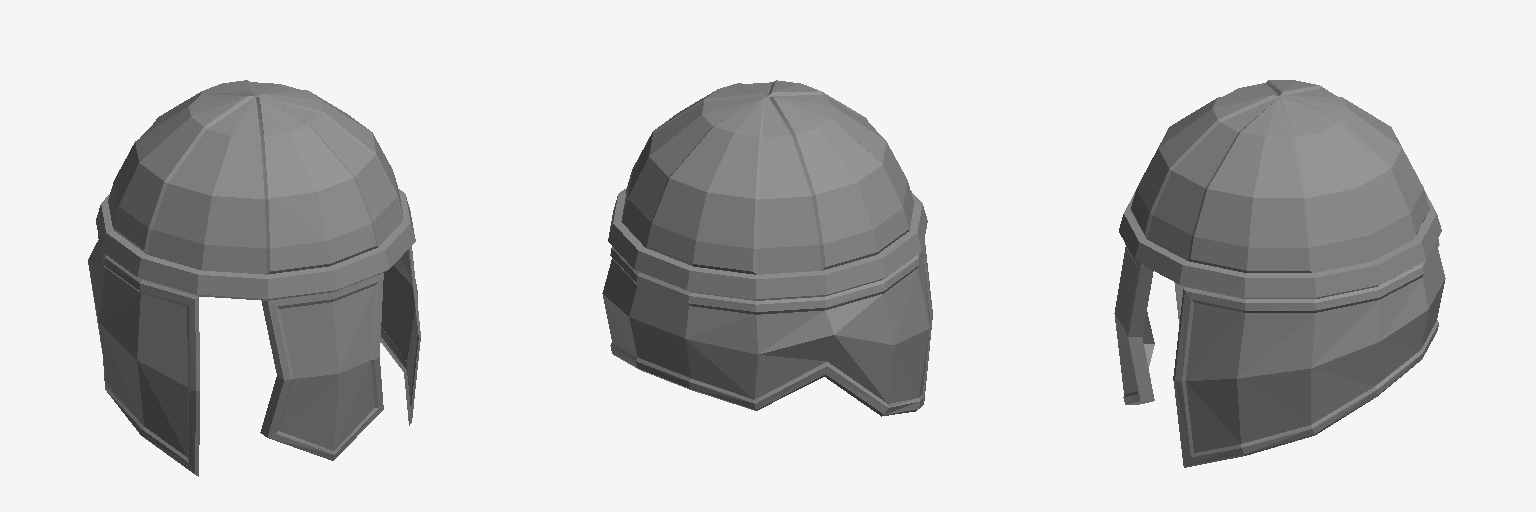
Rendered from frozenhelm.obj.
The picture shows the model from 3 angles: view 1: azimuth 30°, elevation 25°; view 2: azimuth 150°, elevation 25°; view 3: azimuth 270°, elevation 25°; orthographic projection.
Parts seen in each view (by area): view 1: Helmet1; view 2: Helmet1; view 3: Helmet1.
Boxes of the visible parts, <box> form: Helmet1: <box>88,80,420,476</box>; Helmet1: <box>602,80,932,416</box>; Helmet1: <box>1114,80,1445,467</box>.
Size of the model in its own units: 18.96 by 20.54 by 19.16.